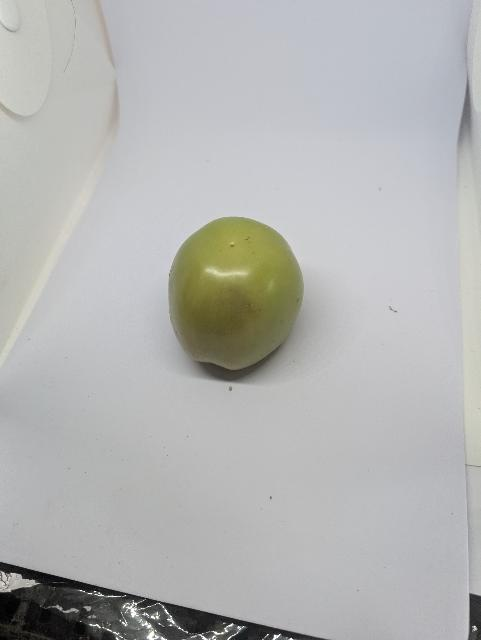green: (153, 206, 311, 389)
